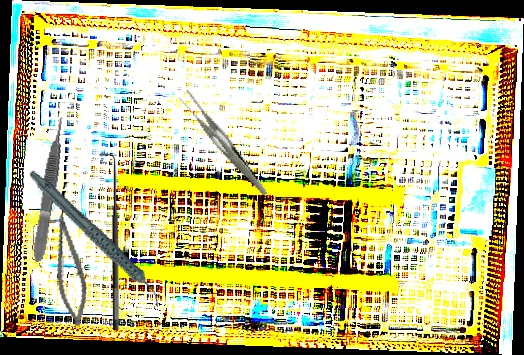Dressing Forceps: (177, 77, 268, 211)
Handpiece: (26, 148, 164, 329)
Hook Surgical: (99, 153, 121, 330)
Micro Scissor: (42, 210, 96, 329)
Tissue Forceps: (29, 115, 70, 264)
